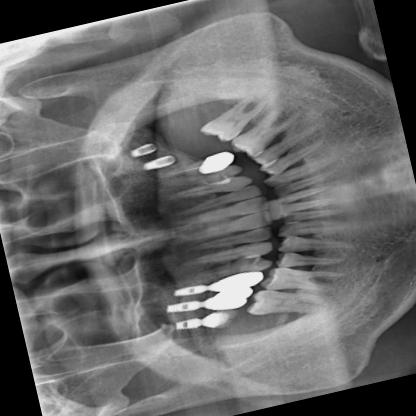Bicon: (141, 153, 175, 172), (161, 299, 202, 314), (129, 138, 153, 158), (169, 282, 205, 295), (170, 317, 200, 331)
